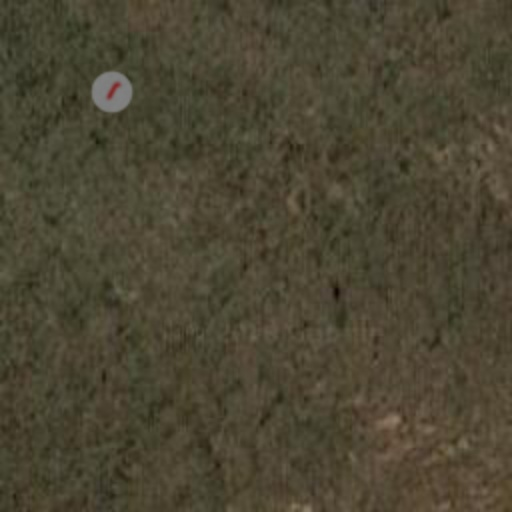circle: (84, 64, 140, 120)
